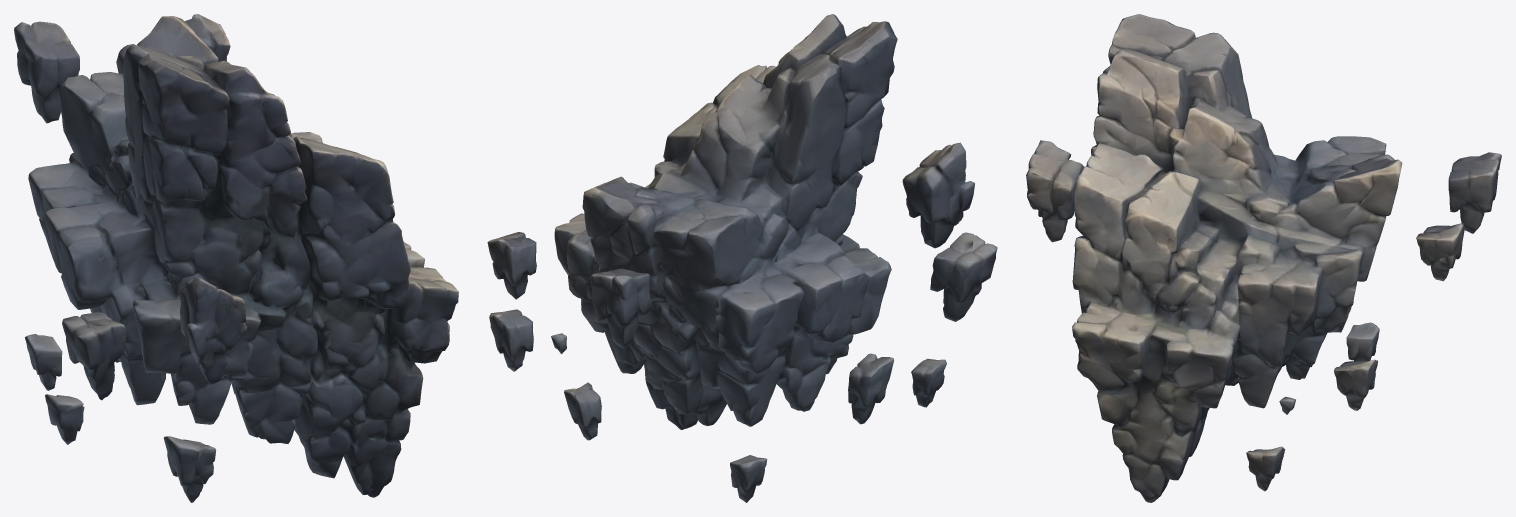
Rendered from Island_Crag.fbx.
3 renders of one model, left to right at view 1: azimuth 30°, elevation 25°; view 2: azimuth 150°, elevation 25°; view 3: azimuth 270°, elevation 25°, orthographic. The views are drawn at different scales.
Visible parts, largest first — view 1: Island_Crag; view 2: Island_Crag; view 3: Island_Crag.
Part boxes in pixels (<box>): Island_Crag: <box>14,14,458,502</box>; Island_Crag: <box>487,14,997,502</box>; Island_Crag: <box>1026,14,1501,502</box>.
Bounding box in the file's own units: 1200 × 1400 × 1500.
Materials: 1 (1 with a texture image).
